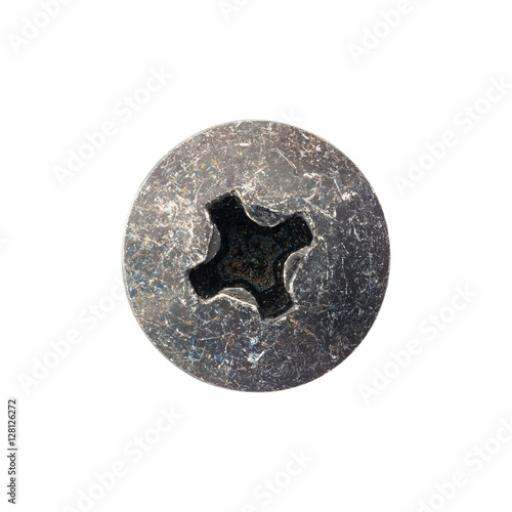Phillips: (122, 121, 392, 395)
